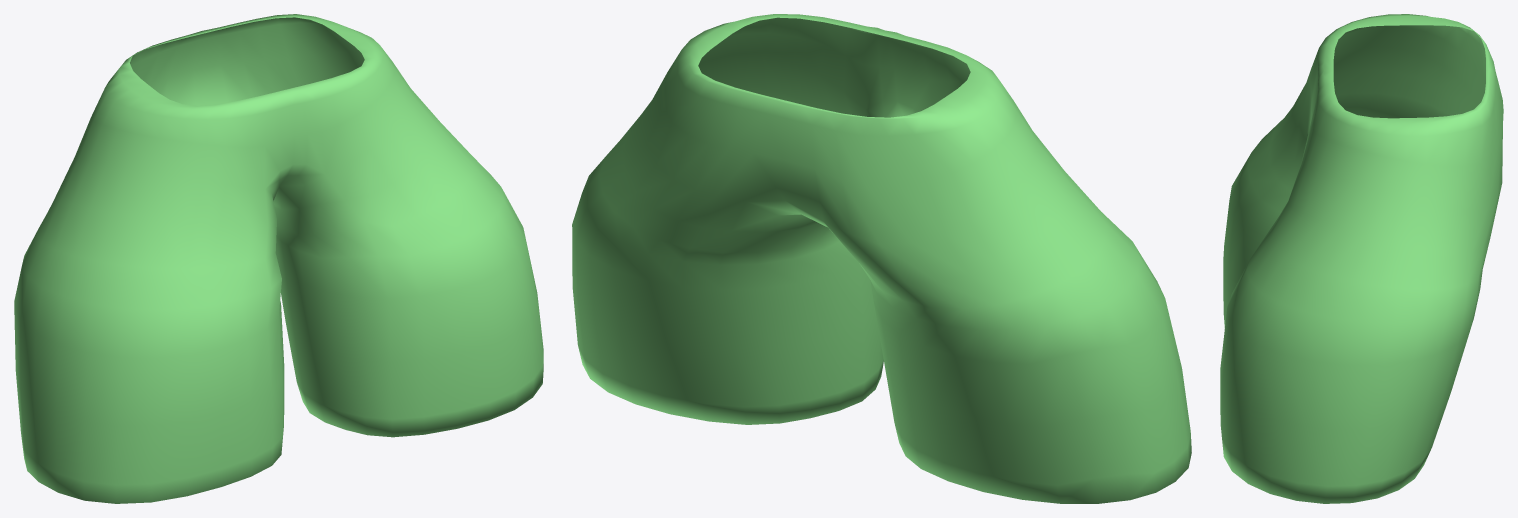
File: Pants_deflating.fbx
3 renders of one model, left to right at view 1: azimuth 30°, elevation 25°; view 2: azimuth 150°, elevation 25°; view 3: azimuth 270°, elevation 25°, orthographic. The views are drawn at different scales.
Visible parts, largest first — view 1: polySurface1; view 2: polySurface1; view 3: polySurface1.
Boxes of the visible parts, left/top/right/bottom form: polySurface1: left=14, top=14, right=543, bottom=503; polySurface1: left=572, top=14, right=1191, bottom=503; polySurface1: left=1220, top=14, right=1503, bottom=503.
Bounding box in the file's own units: 50.18 × 31.68 × 25.36.
